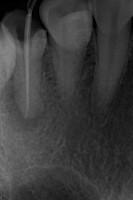Furcation Involvement: (5, 75, 46, 132)
